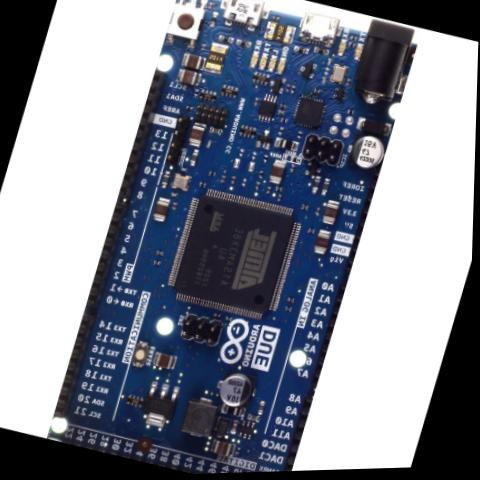Arduino-Due: (47, 0, 422, 479)
